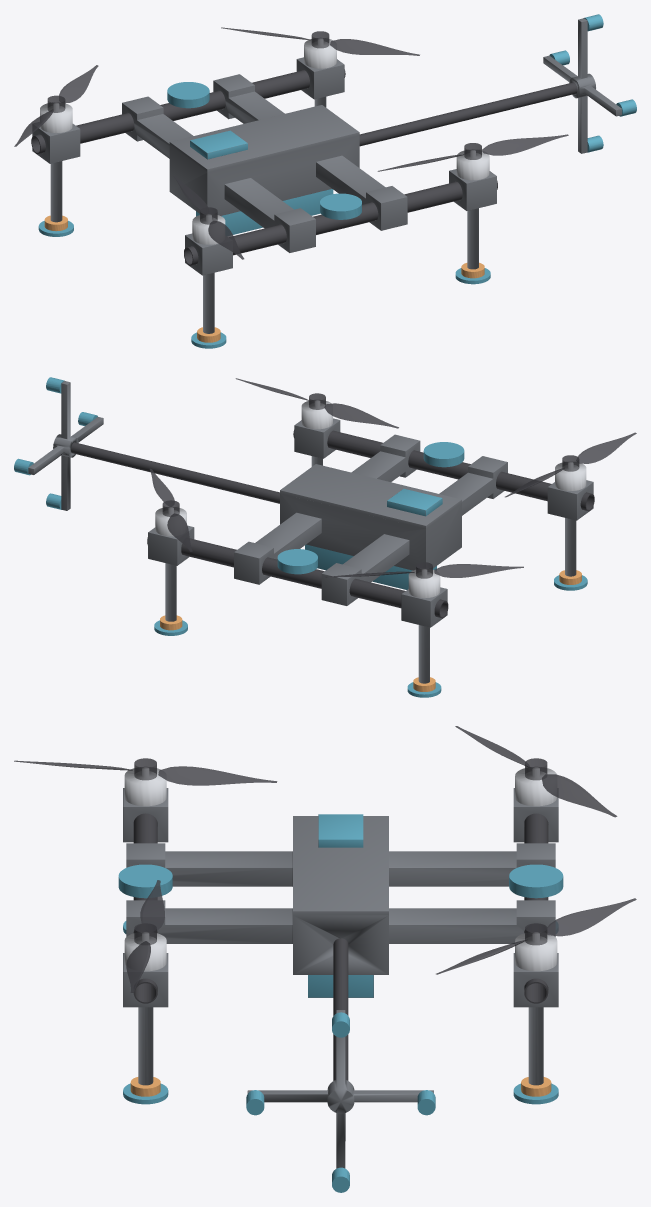
The model's file is orpheus.glb.
3 views of the same model, one above another, from view 1: azimuth 30°, elevation 25°; view 2: azimuth 150°, elevation 25°; view 3: azimuth 270°, elevation 25° (orthographic). The views are drawn at different scales.
Parts seen in each view (by area): view 1: Orpheus V1; view 2: Orpheus V1; view 3: Orpheus V1.
Boxes of the visible parts, bbox=[...] form: Orpheus V1: bbox=[14, 14, 636, 348]; Orpheus V1: bbox=[14, 377, 636, 697]; Orpheus V1: bbox=[14, 726, 636, 1192].
Bounding box in the file's own units: 0.5319 × 0.1472 × 0.4148.
